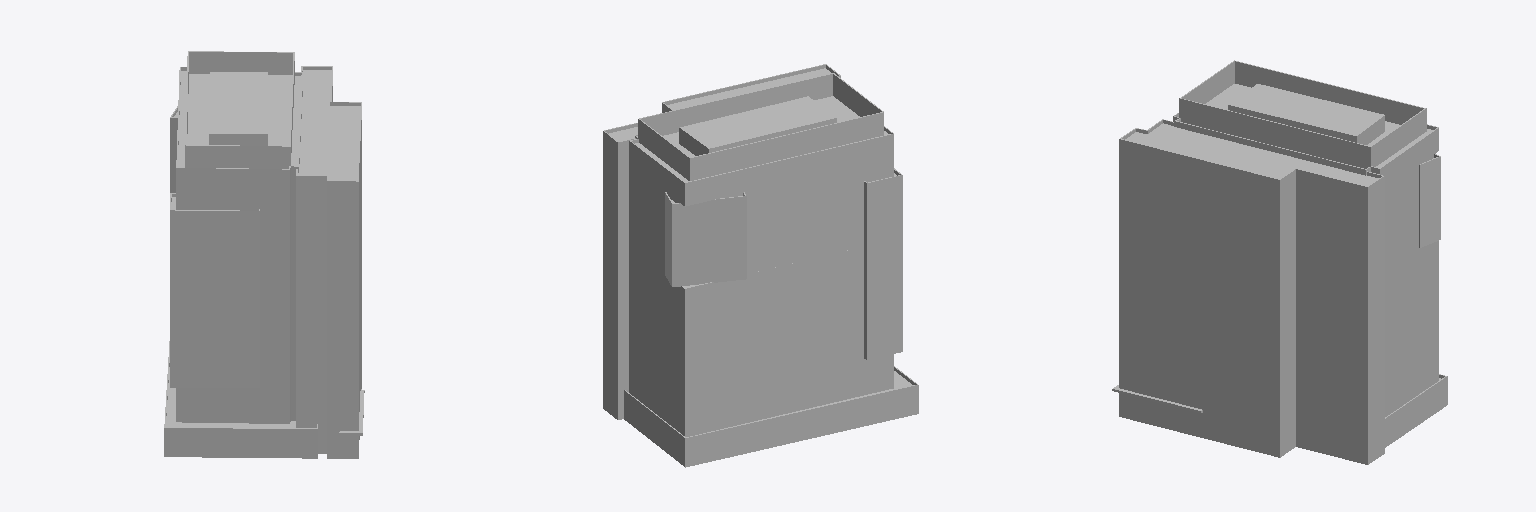
The model's file is lab_4.obj.
3 views of the same model, side by side, from view 1: azimuth 30°, elevation 25°; view 2: azimuth 150°, elevation 25°; view 3: azimuth 270°, elevation 25° (orthographic).
Parts seen in each view (by area): view 1: object_1; view 2: object_1; view 3: object_1.
Boxes of the visible parts, x1=… form: object_1: x1=164, y1=51, x2=364, y2=458; object_1: x1=603, y1=64, x2=918, y2=467; object_1: x1=1112, y1=60, x2=1447, y2=464.
Bounding box in the file's own units: 216 × 256 × 259.